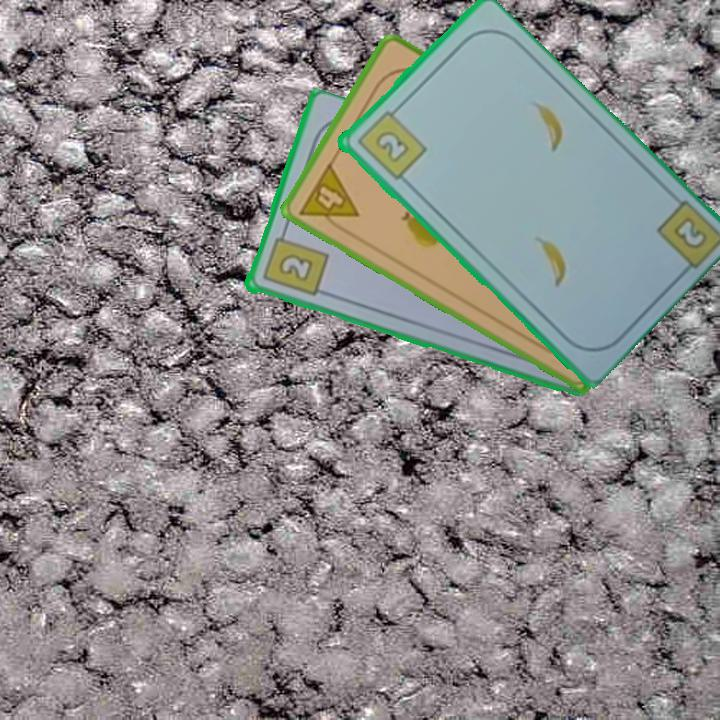2b: (352, 102, 429, 183), (258, 226, 330, 299), (669, 213, 710, 253)
4p: (295, 159, 362, 238)
